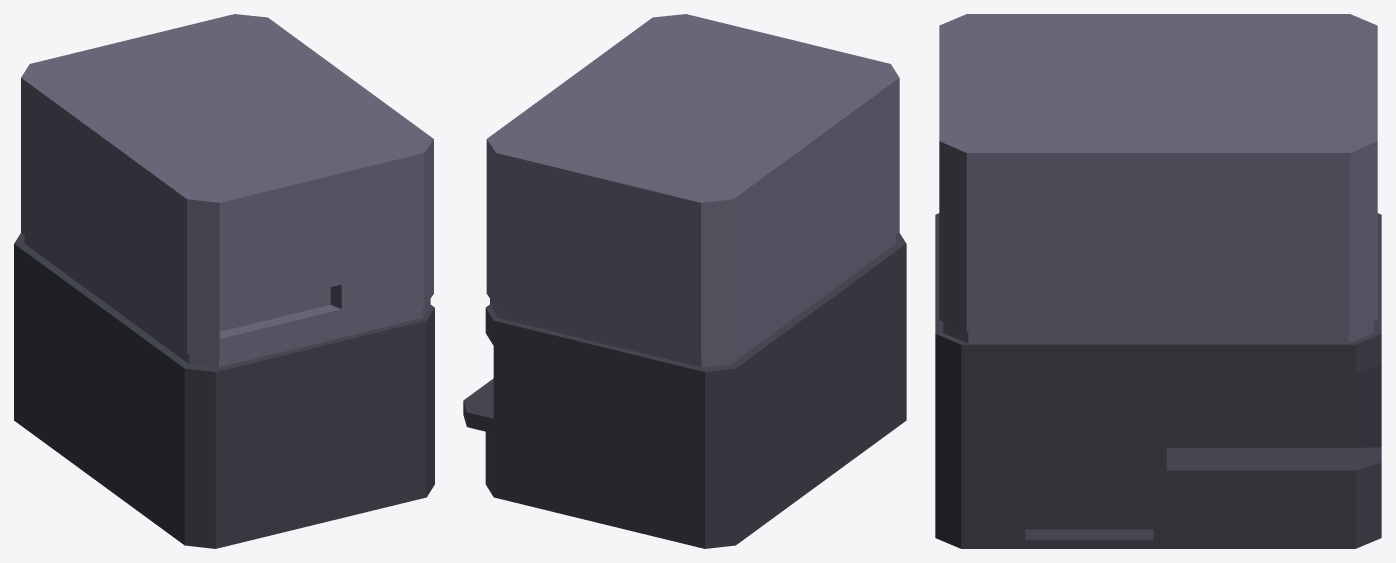
Rendered from 3_Scaffolding.fbx.
The picture shows the model from 3 angles, left to right: view 1: azimuth 30°, elevation 25°; view 2: azimuth 150°, elevation 25°; view 3: azimuth 270°, elevation 25°; orthographic projection. The views are drawn at different scales.
Parts seen in each view (by area): view 1: polySurface92; view 2: polySurface92; view 3: polySurface92.
Boxes of the visible parts, x1=… form: polySurface92: x1=14, y1=14, x2=434, y2=548; polySurface92: x1=463, y1=14, x2=906, y2=548; polySurface92: x1=935, y1=14, x2=1381, y2=548.
Bounding box in the file's own units: 5.18 × 6.24 × 6.37.
